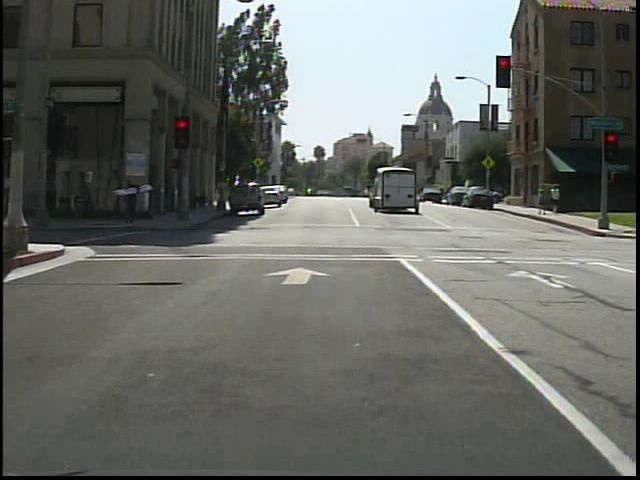person: (124, 180, 143, 224), (547, 183, 564, 216), (537, 184, 551, 218)
